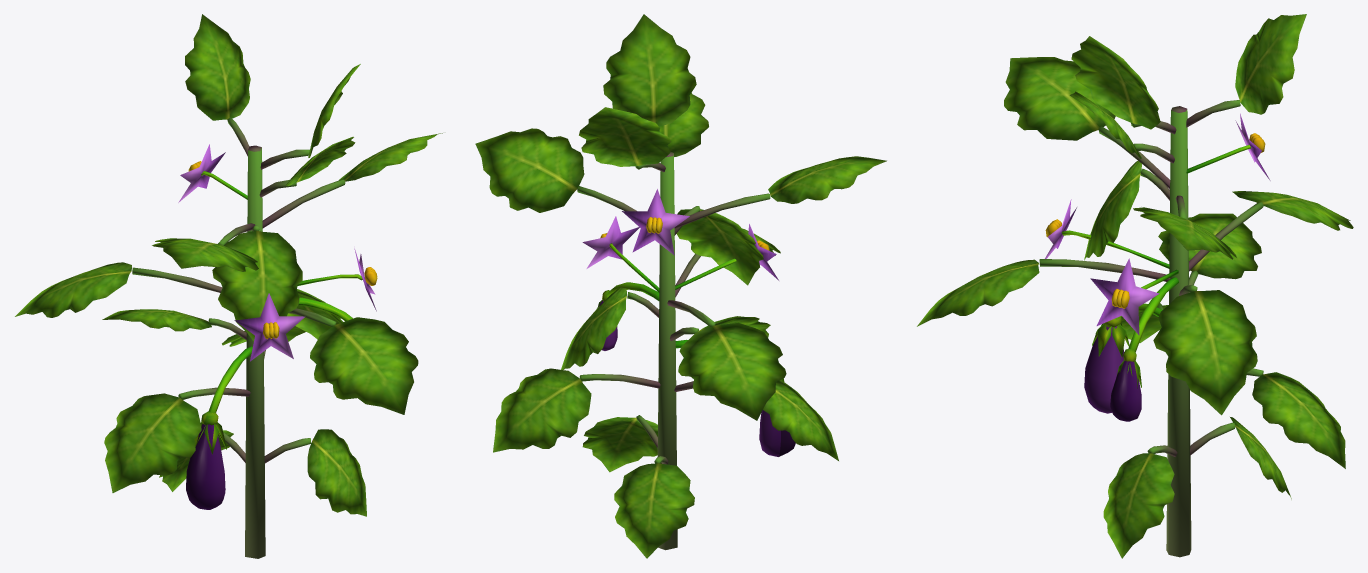
The model's file is NP_Eggplant_Flowering_LOD1.fbx.
3 views of the same model, side by side, from view 1: azimuth 30°, elevation 25°; view 2: azimuth 150°, elevation 25°; view 3: azimuth 270°, elevation 25° (orthographic). The views are drawn at different scales.
Visible parts, largest first — view 1: NP_Eggplant_Flowering; view 2: NP_Eggplant_Flowering; view 3: NP_Eggplant_Flowering.
Boxes of the visible parts, x1,y1,x2,y2 form: NP_Eggplant_Flowering: (15, 14, 442, 558); NP_Eggplant_Flowering: (475, 14, 886, 558); NP_Eggplant_Flowering: (917, 14, 1353, 558).
Size of the model in its own units: 86.19 by 115 by 82.58.
